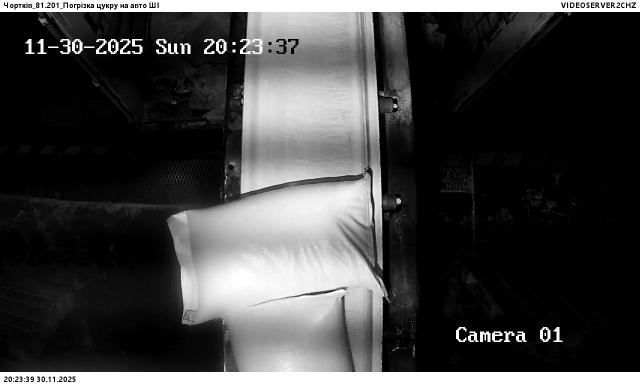bag: (169, 173, 395, 325), (229, 291, 355, 371)
